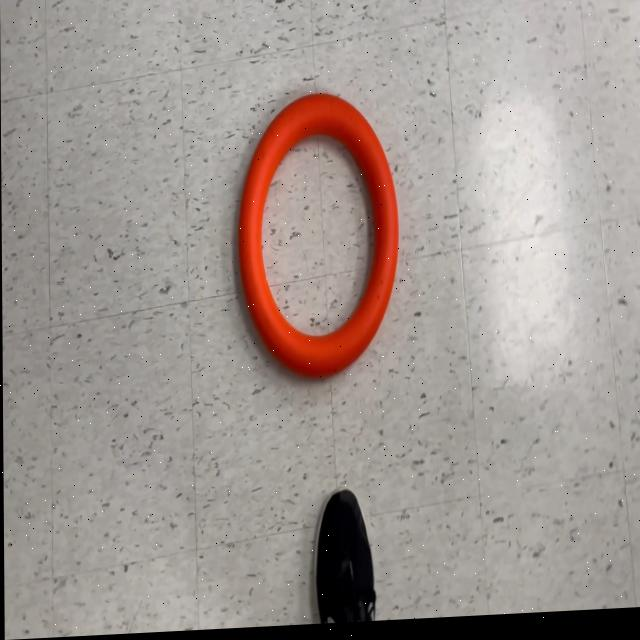note: (235, 92, 400, 389)
